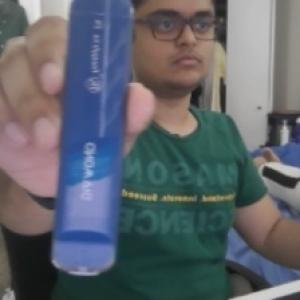Diamond-E-Ciggirate: (49, 0, 132, 279)
